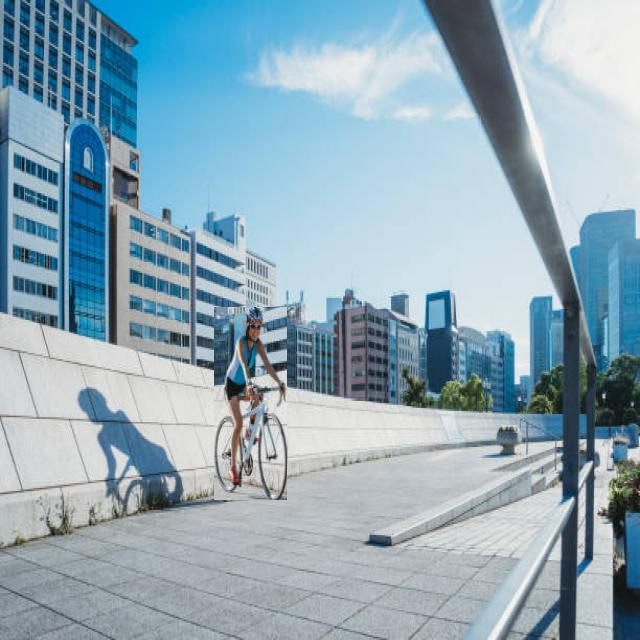bicycle: (215, 307, 287, 500)
